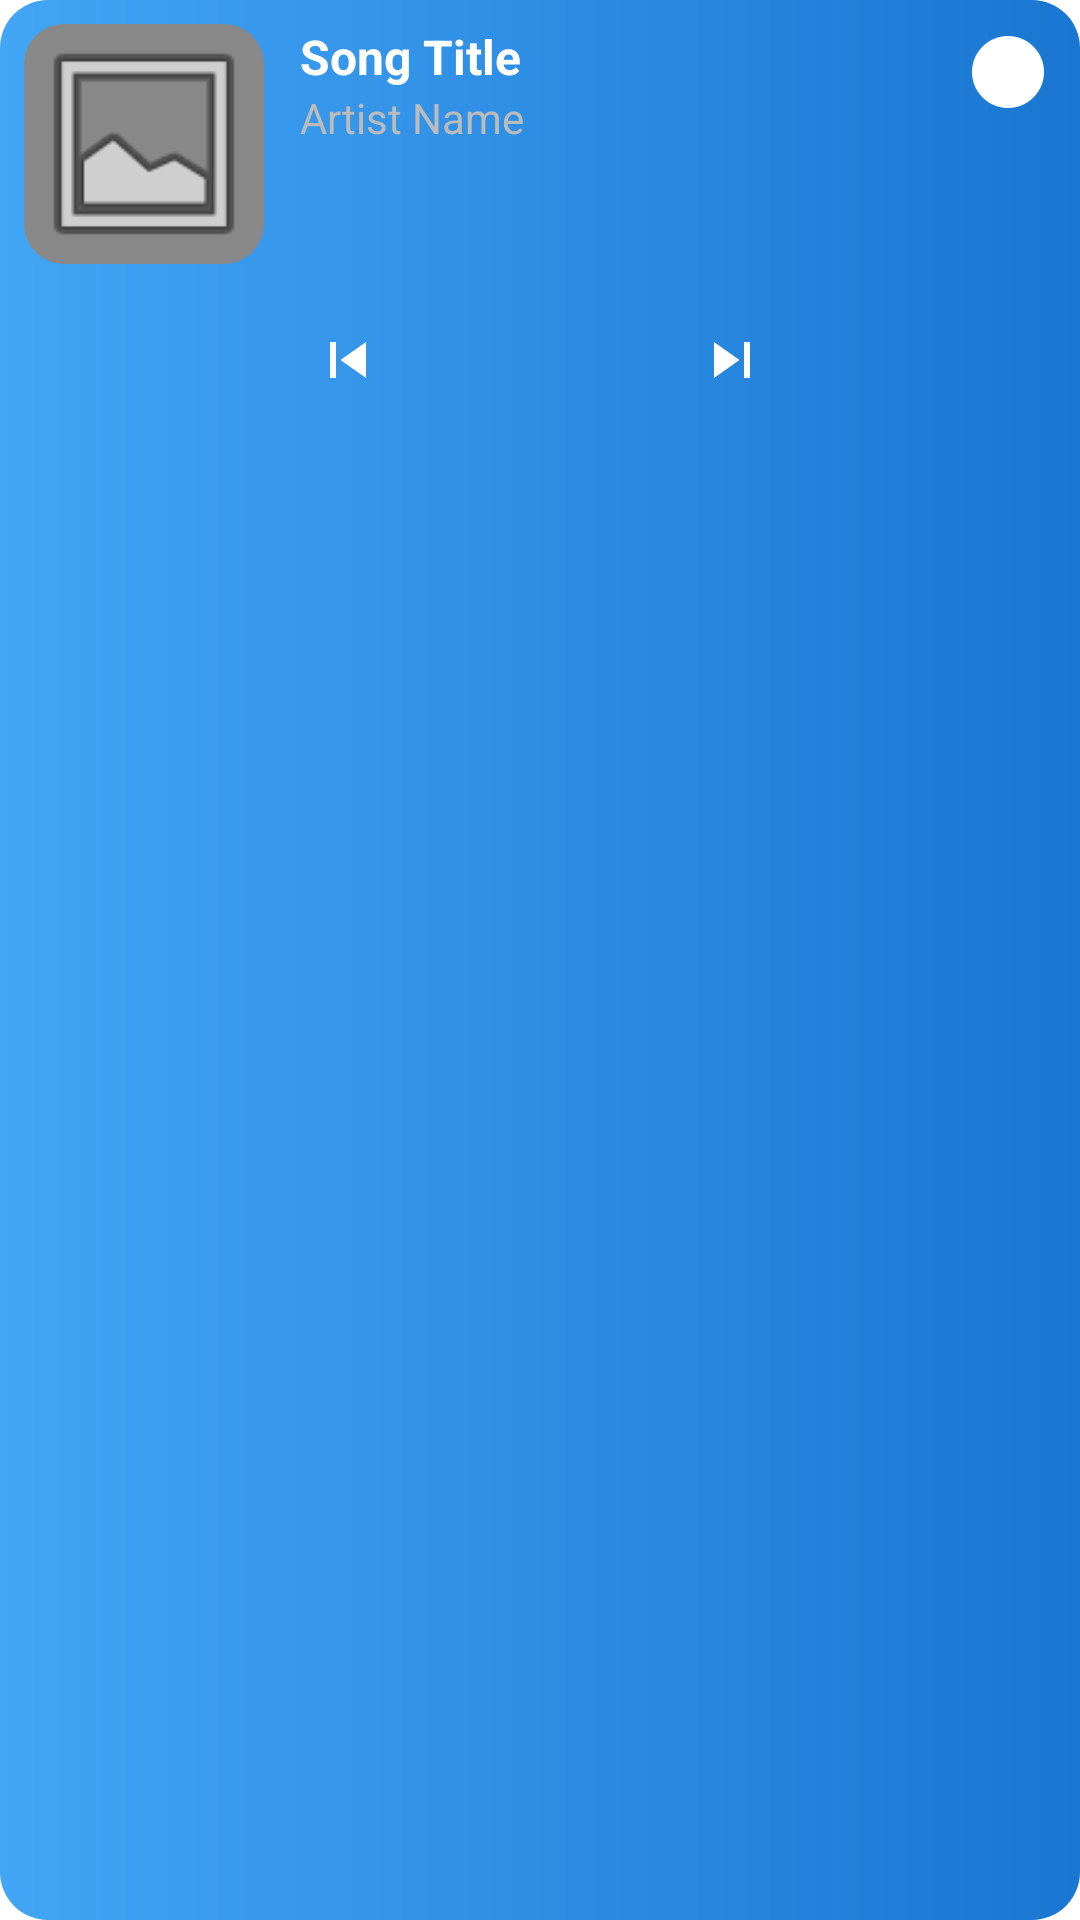

Where to tap for icons on this 1080×1920 app screen, as [x,y]:
Next: [732,360]
Previous: [348,360]
